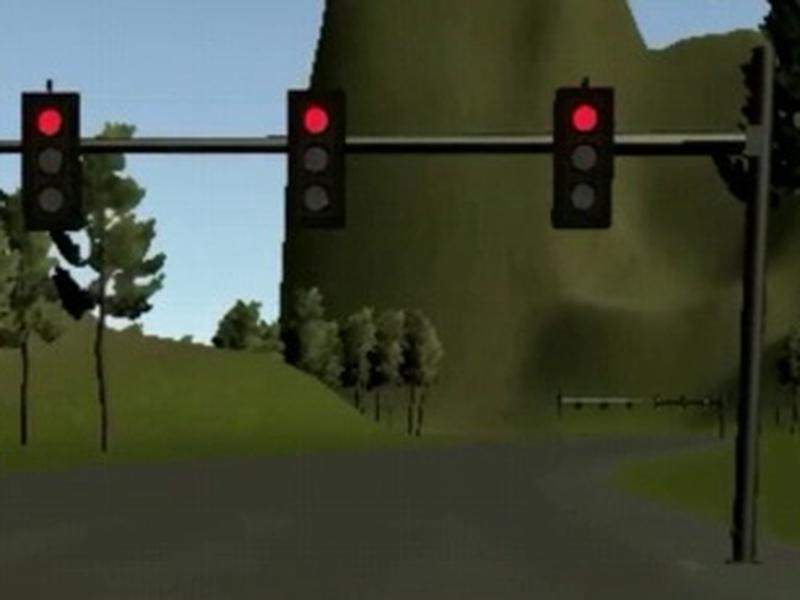Red: (550, 88, 616, 229), (23, 94, 80, 231), (289, 91, 342, 228)
